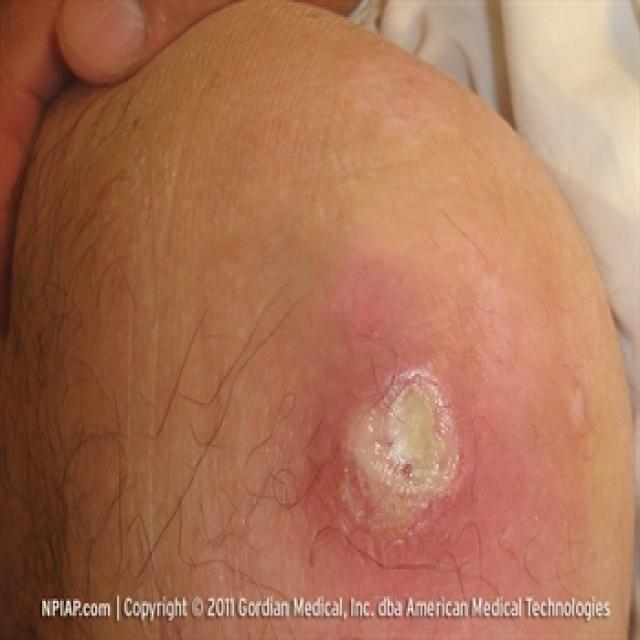Unstageable: (347, 379, 452, 537)
